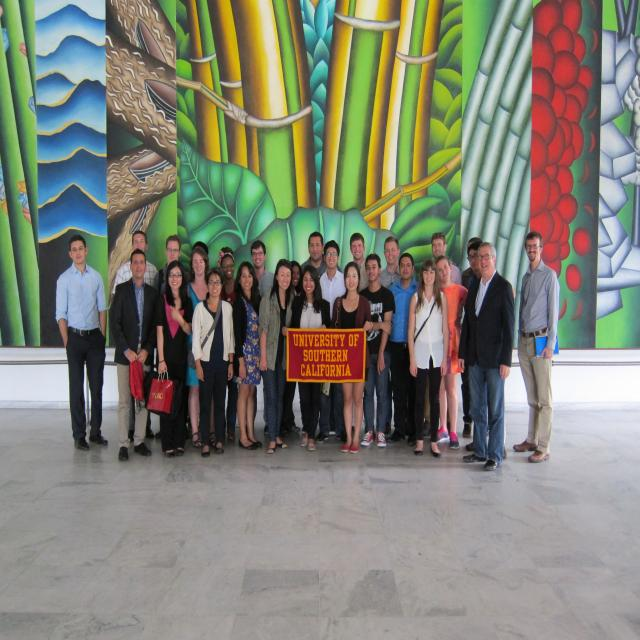body: (457, 241, 513, 472), (55, 234, 108, 451), (514, 230, 560, 466), (463, 244, 509, 461), (112, 230, 158, 443), (110, 248, 155, 461), (281, 264, 330, 446), (407, 258, 450, 457), (193, 269, 235, 460), (423, 232, 462, 437), (330, 261, 371, 454), (341, 232, 377, 439), (155, 261, 191, 459), (358, 253, 394, 448), (185, 246, 218, 449), (258, 258, 292, 455), (243, 239, 277, 436), (434, 254, 468, 449), (232, 262, 266, 452), (388, 252, 420, 448), (262, 257, 296, 437), (378, 236, 404, 436), (459, 238, 484, 438), (216, 245, 240, 446), (188, 245, 210, 450), (152, 234, 191, 301), (317, 239, 347, 322), (299, 230, 342, 278)
